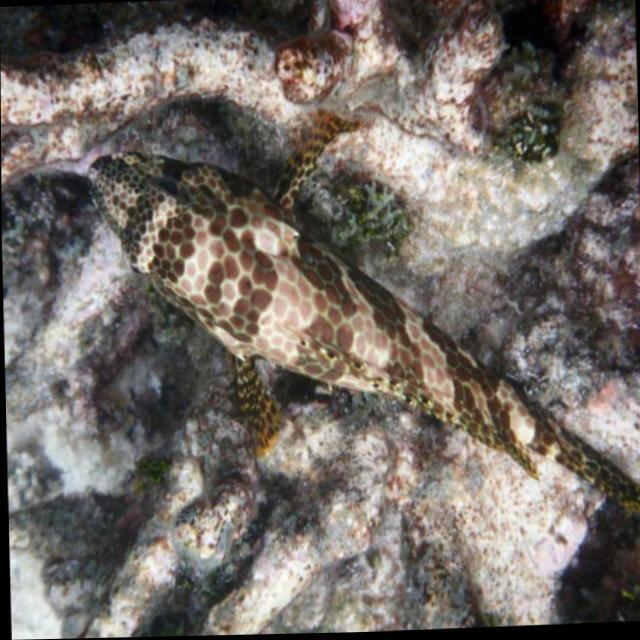Dead Coral: (14, 7, 608, 177), (119, 455, 520, 596)
